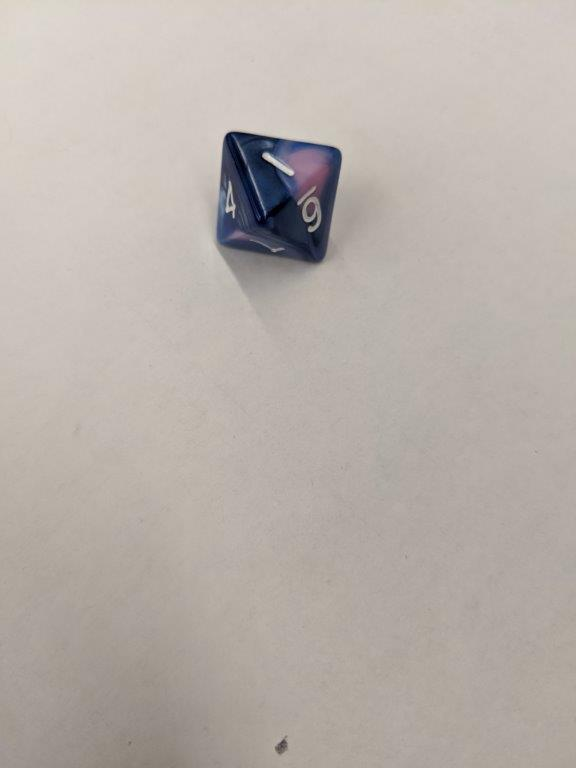d8-1: (217, 129, 344, 265)
